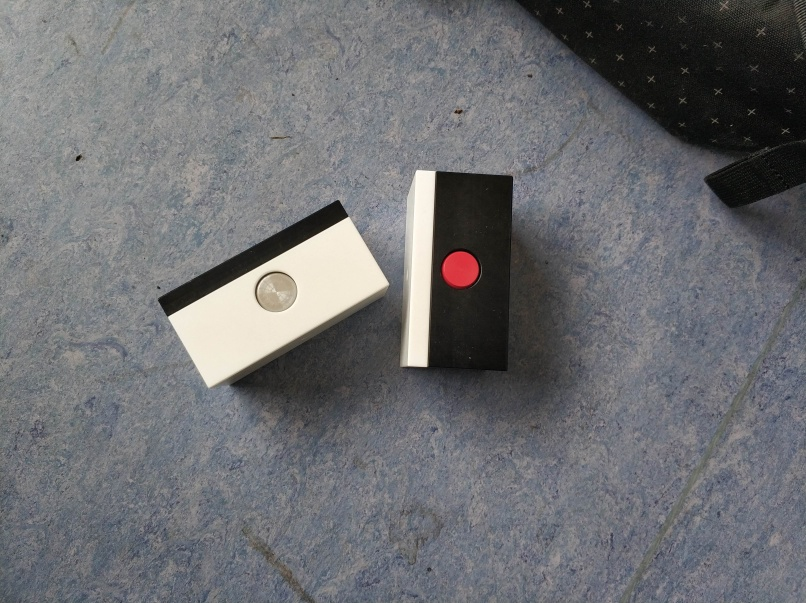black+white+silver: (151, 194, 396, 389)
white+black+red: (401, 168, 516, 374)
